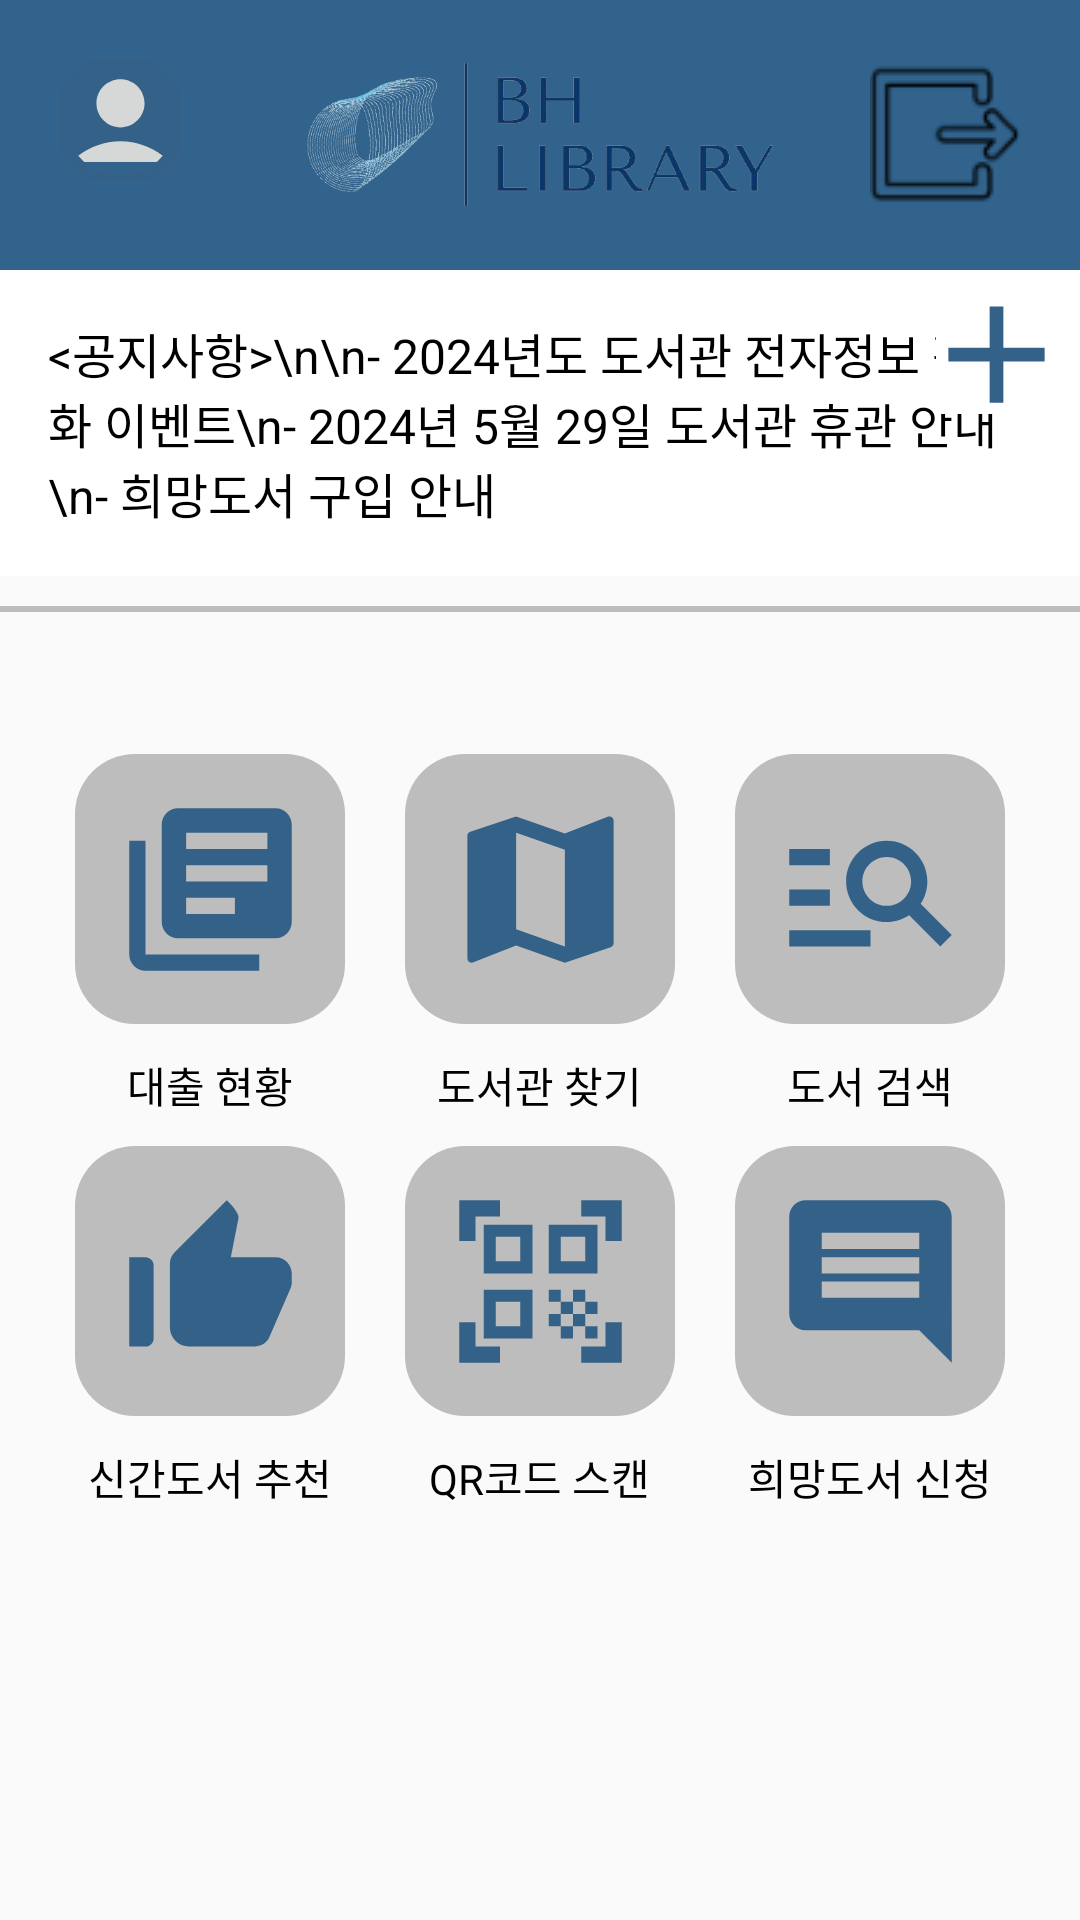

Icon bounding boxes for this 1080*1920 phone screenshot, format (x1, y1, x2, y2):
add: (948, 306, 1045, 403)
book: (75, 754, 345, 1024)
good: (75, 1146, 345, 1416)
map: (405, 754, 675, 1024)
user: (78, 79, 163, 162)
